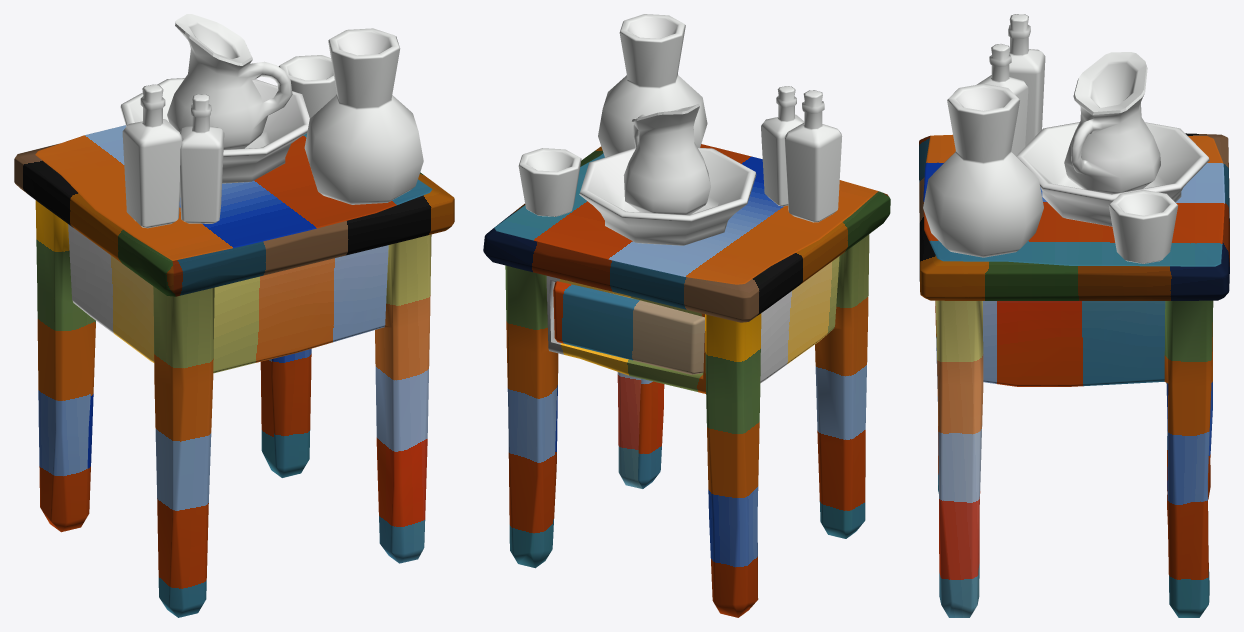
Rendered from P_AP31BedroomTallTable.glb.
3 renders of one model, left to right at view 1: azimuth 30°, elevation 25°; view 2: azimuth 150°, elevation 25°; view 3: azimuth 270°, elevation 25°, orthographic. The views are drawn at different scales.
Parts seen in each view (by area): view 1: P_AP31BedroomTallTable; view 2: P_AP31BedroomTallTable; view 3: P_AP31BedroomTallTable.
Part boxes in pixels (box(x1,y1,x2,y2)): P_AP31BedroomTallTable: box(14, 14, 454, 617); P_AP31BedroomTallTable: box(483, 14, 890, 617); P_AP31BedroomTallTable: box(919, 14, 1229, 617).
Bounding box in the file's own units: 0.6593 × 1.11 × 0.62.
1 material, 1 textured.
